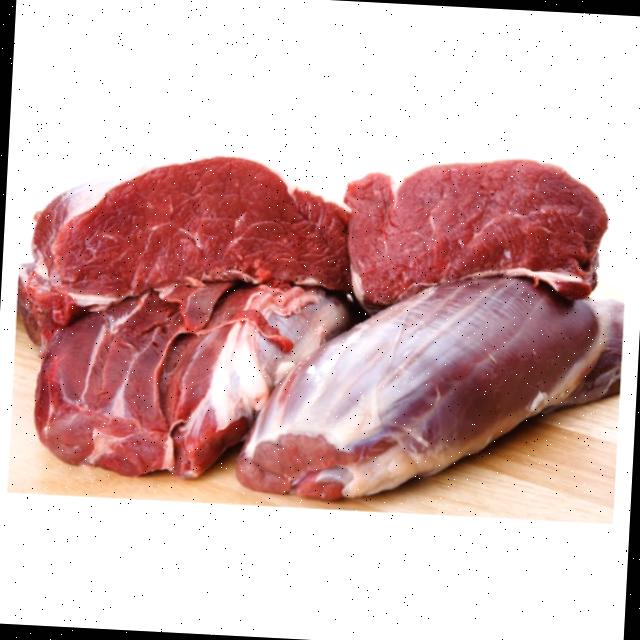meat: (6, 113, 640, 532)
